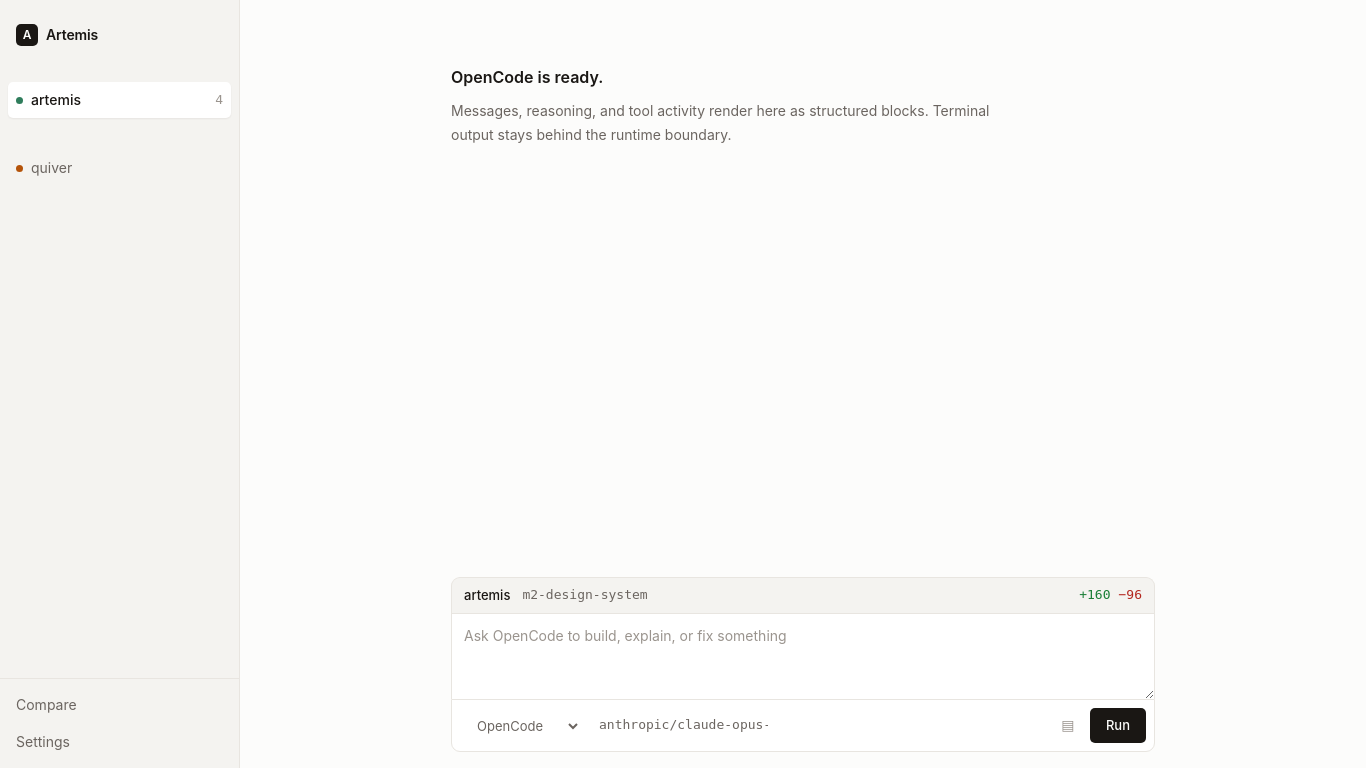
Scenario: the inline diff › does not offer a diff it does not have
This screenshot has width=1366, height=768.
expect the button "artemis 4" is shown: met, box [8,82,231,118]
Type "go" into the text box named "prompt" at [803, 657], box [452,614,1154,699]
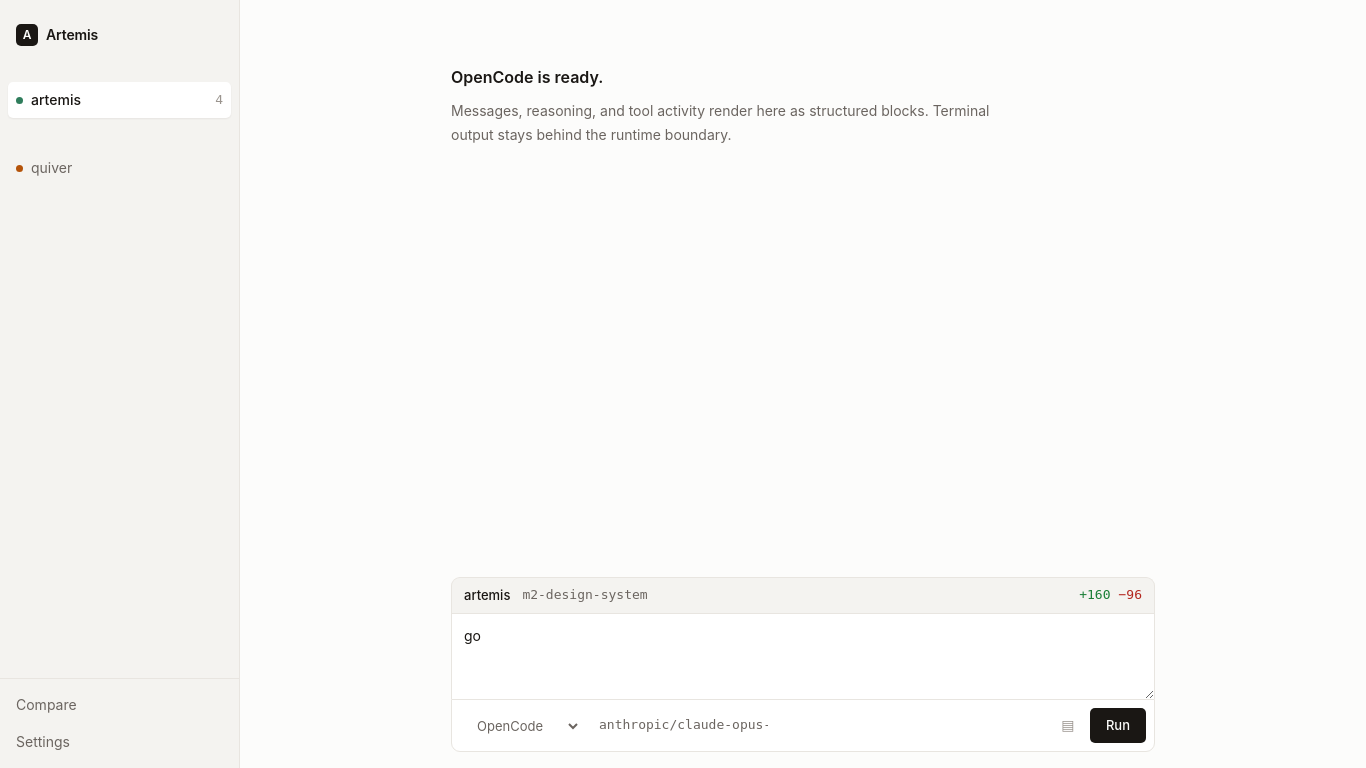
Click the button "Run" at [1118, 726], box [1090,708,1146,743]
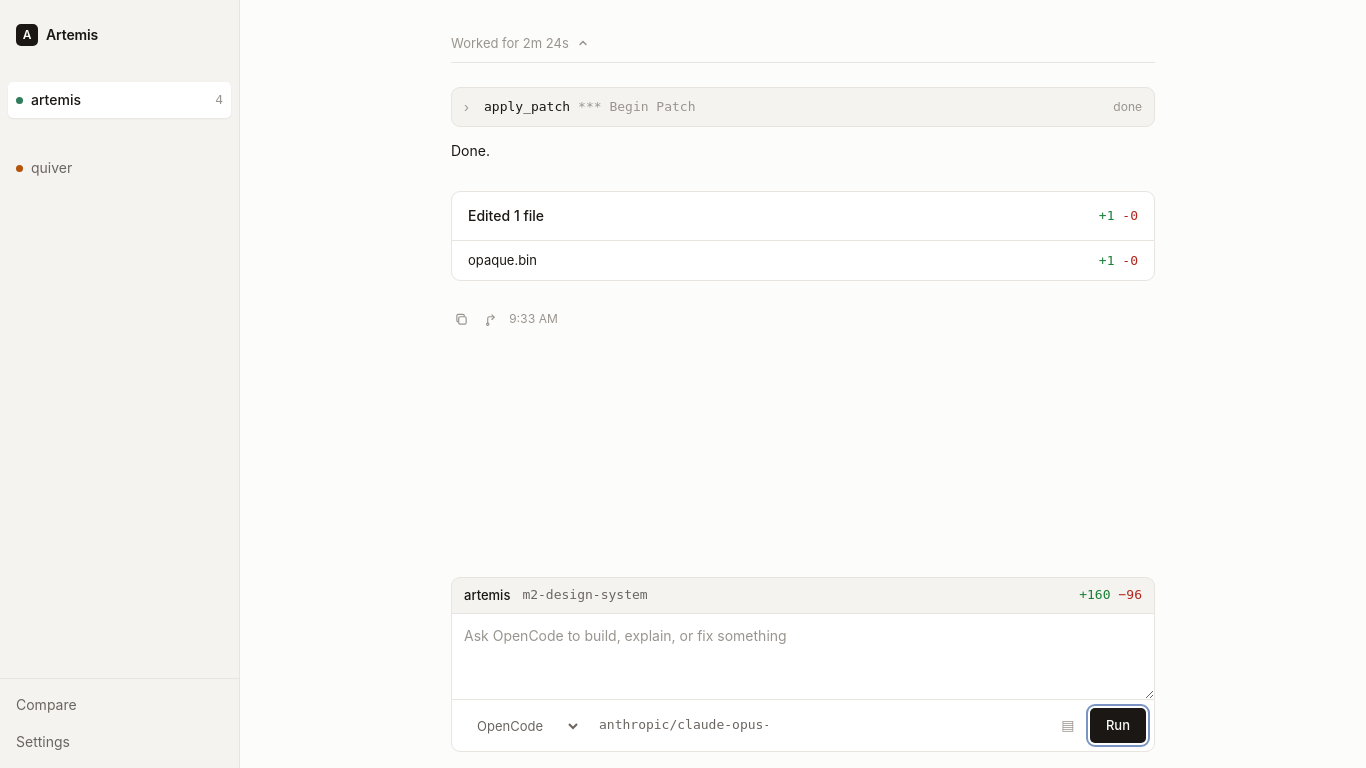
expect the list item with test id "edit-row" shows "opaque.bin": met, box [468,252,537,268]
